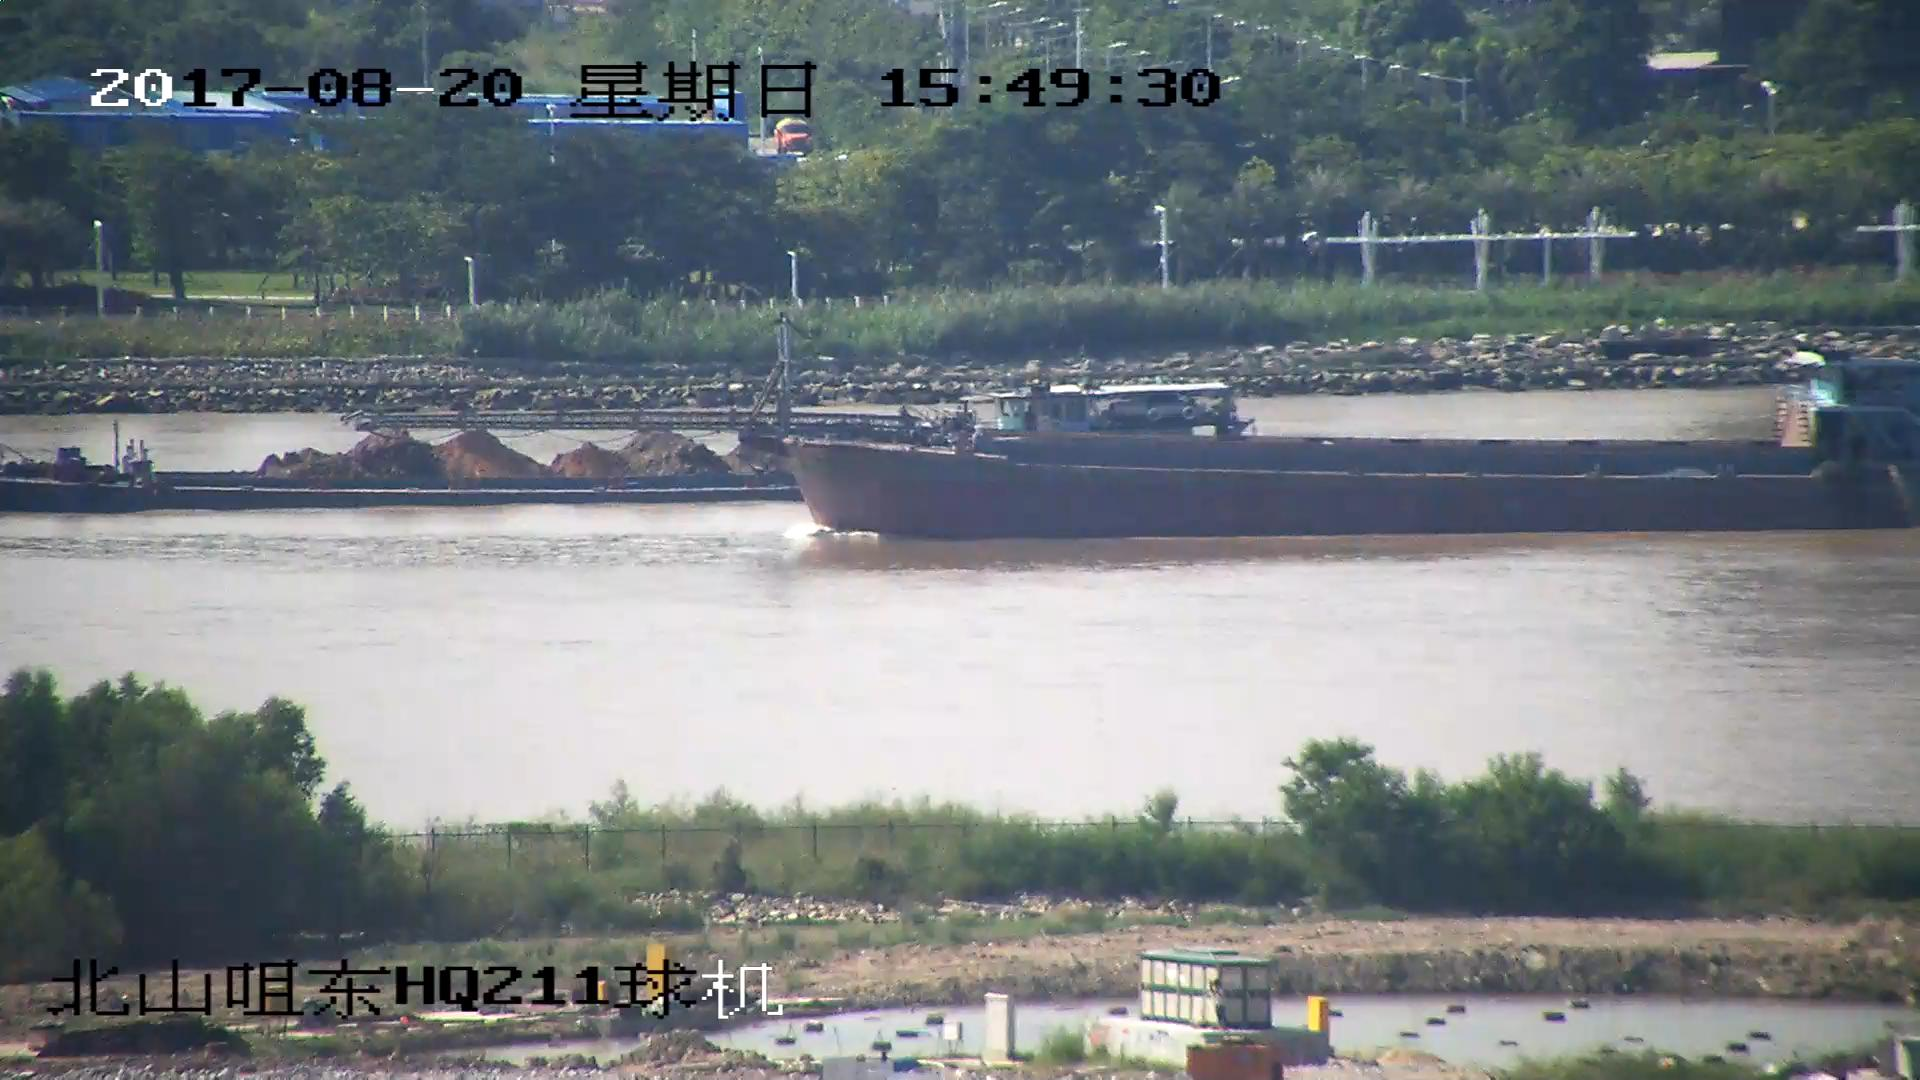bulk cargo carrier: (372, 325, 1920, 534)
ore carrier: (1, 369, 1253, 514)
